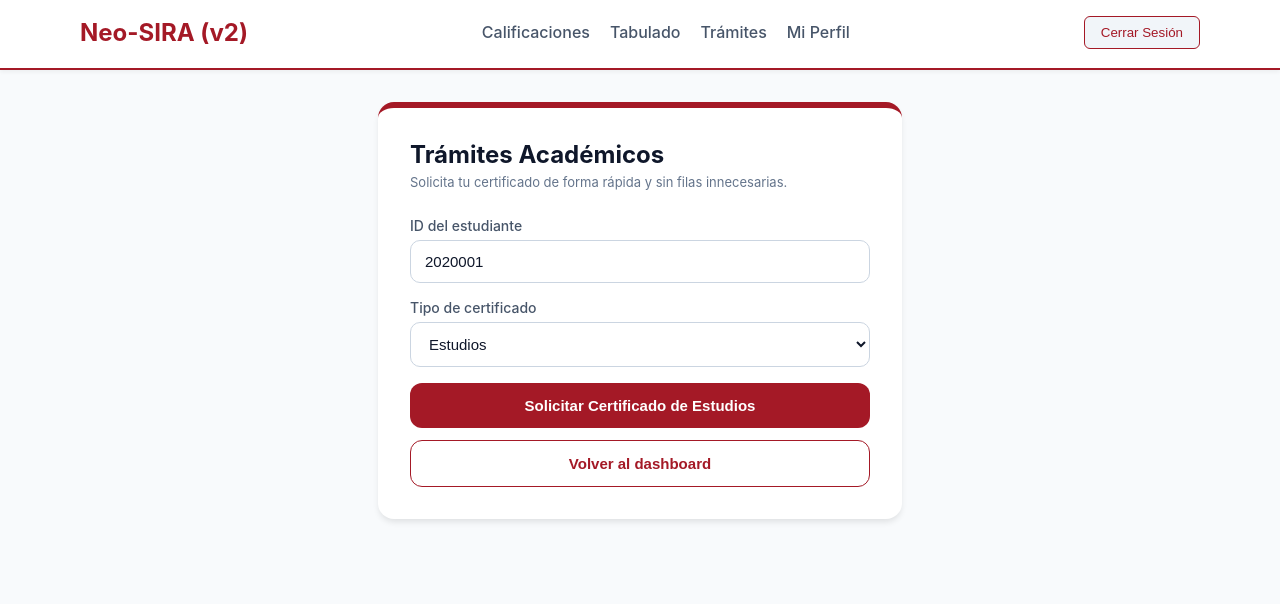
Test: Componente Tramites › muestra error si falla la conexión
Replace the text in the field with test id "tramites-student-id" with "2020456": (640, 261) [410,240,870,282]
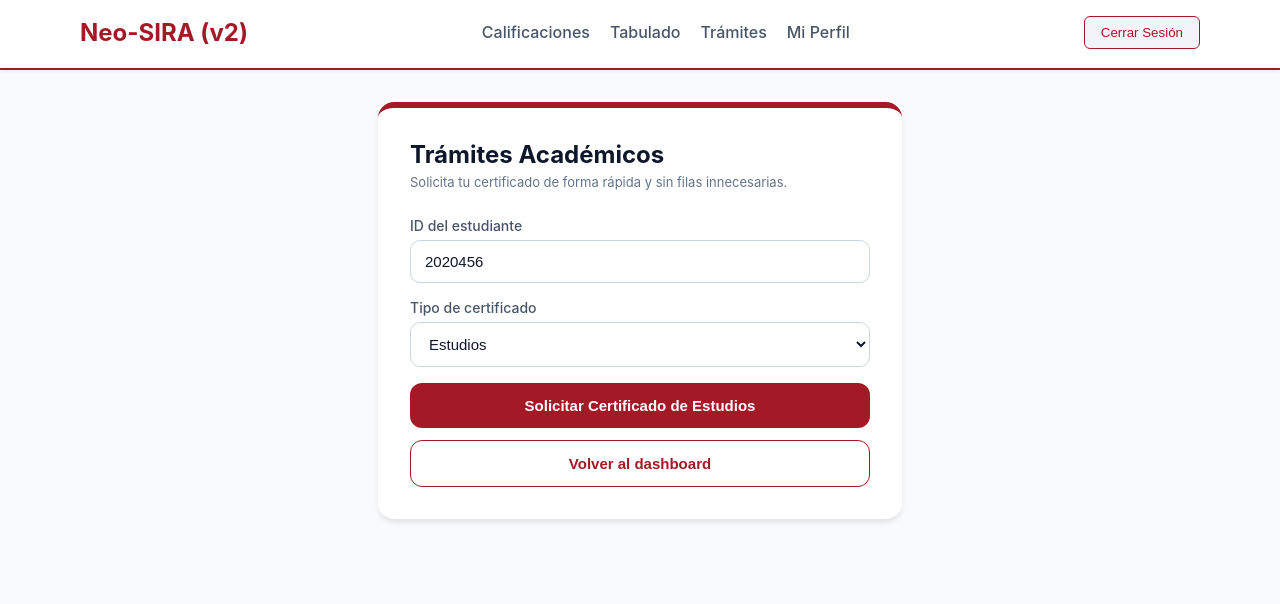
Click the button with test id "tramites-submit": (640, 405) [410,382,870,428]
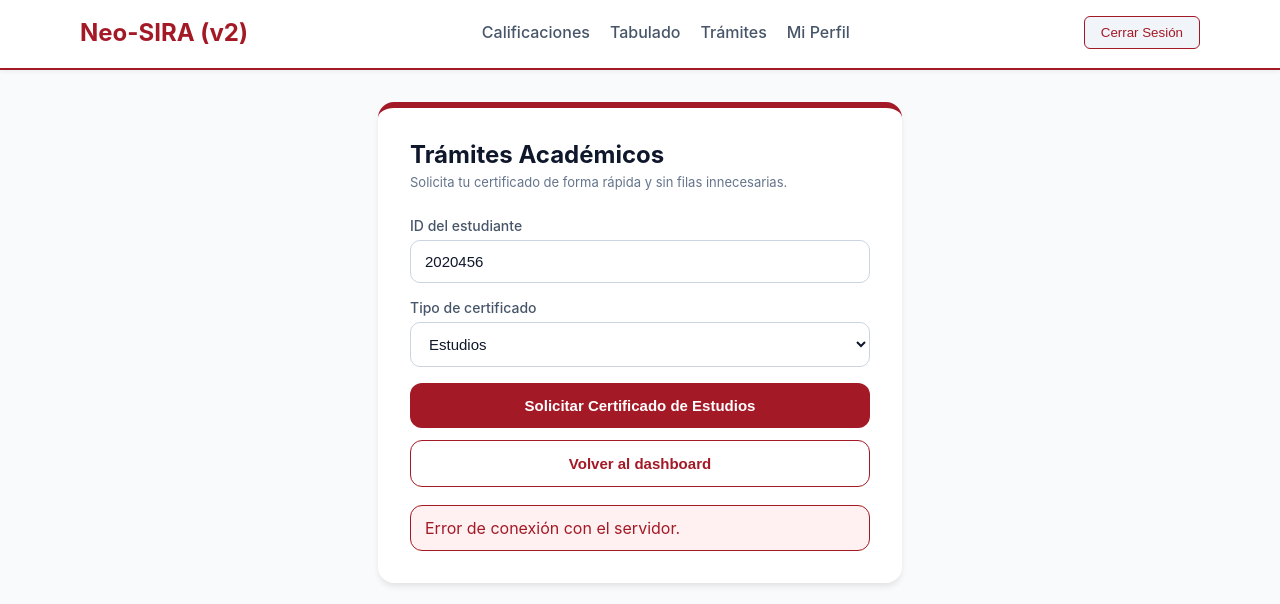
Expected: the message with test id "tramites-message" reads "Error de conexión con el servidor.", [425,518,680,538]
